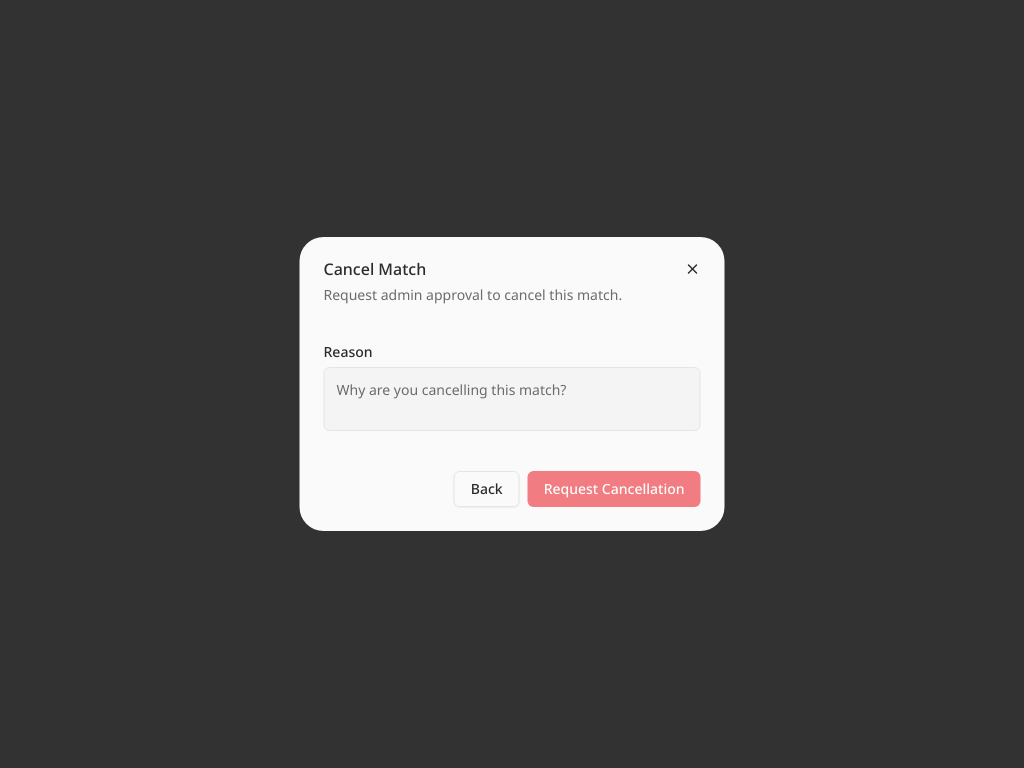
Scenario: match reason dialog states › shows the server detail when the cancellation request fails and stays open
The image size is (1024, 768).
In the text box: (512, 399) [324, 367, 700, 431], type "Family withdrew"
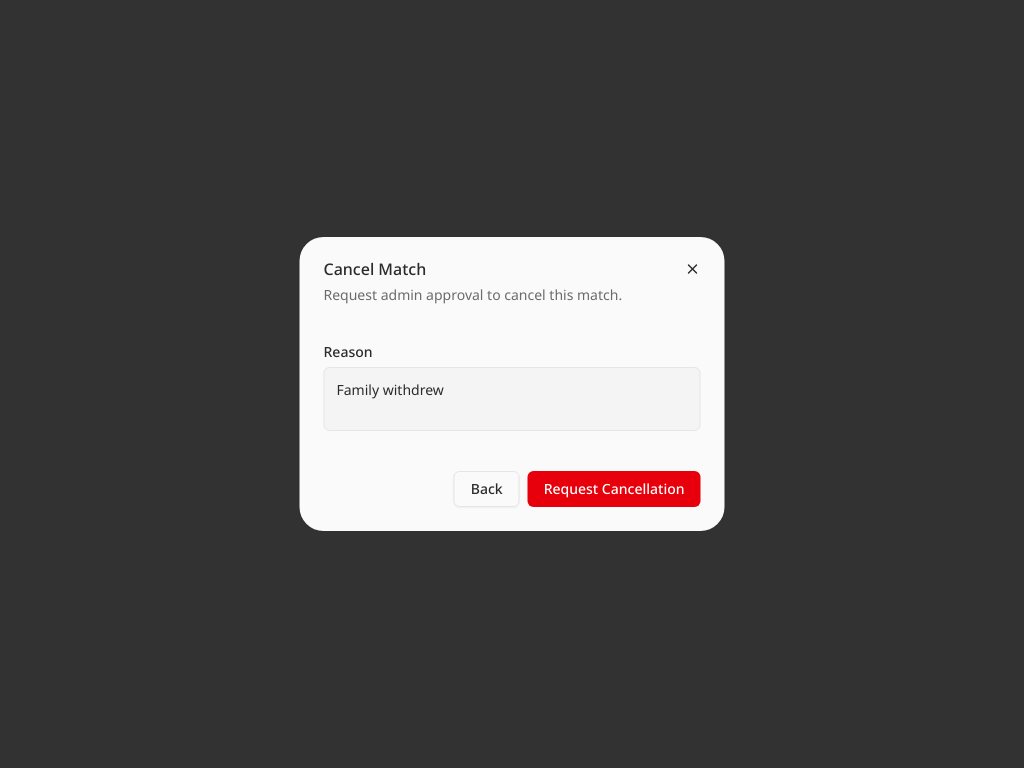
Click the button "Request Cancellation": (614, 489) [528, 471, 700, 507]
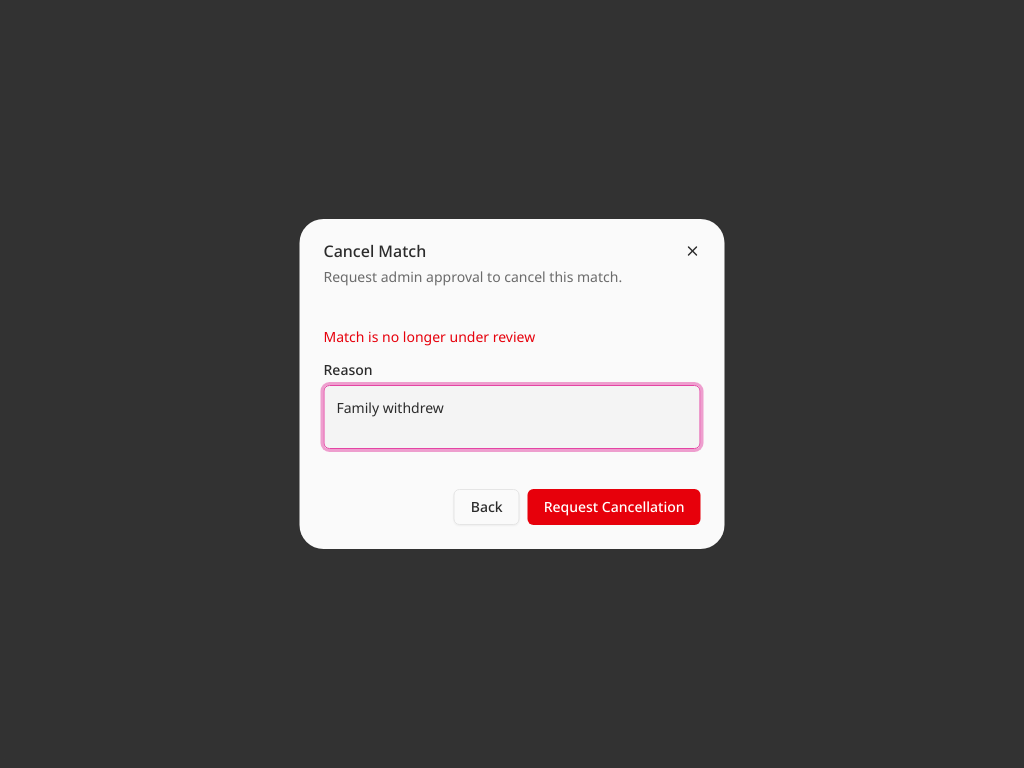
Expected: the message reads "Match is no longer under review", [324, 327, 535, 346]
